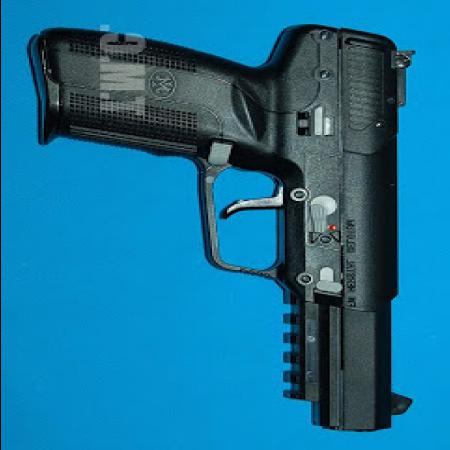Pistol: (17, 24, 422, 444)
